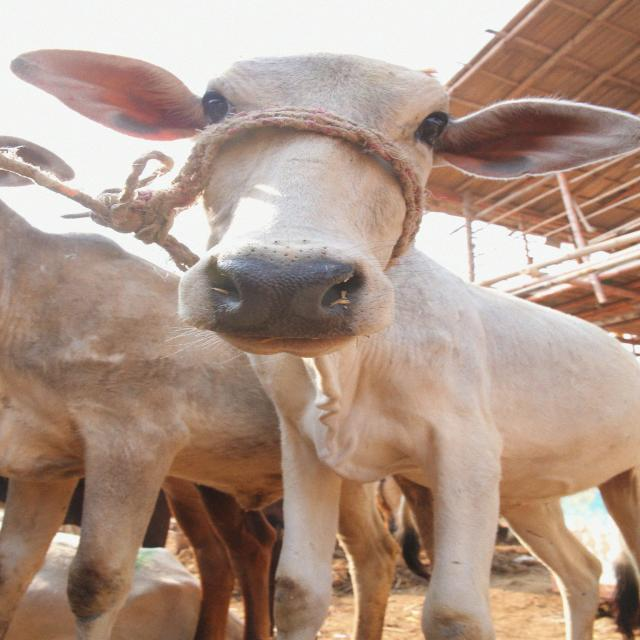muzzles: (200, 242, 372, 344)
